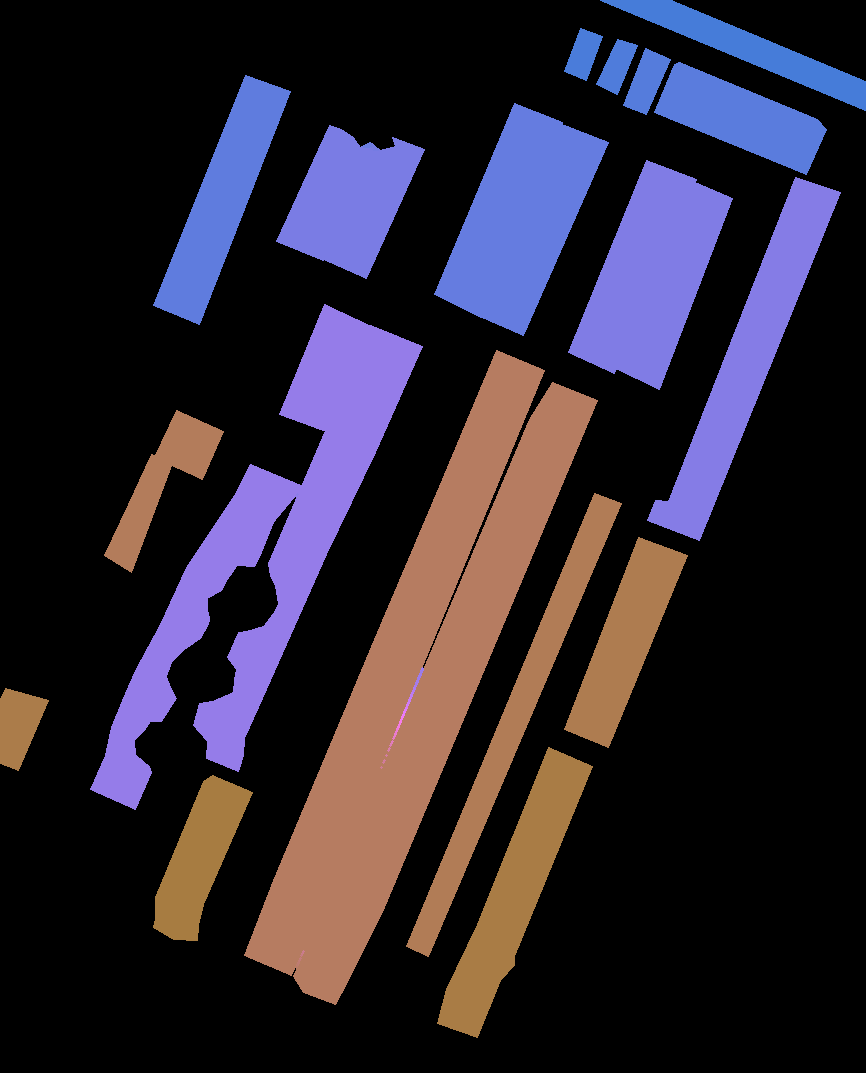parkingspot: (293, 382, 597, 1004), (244, 350, 544, 975), (193, 325, 422, 771), (406, 493, 621, 956), (90, 464, 303, 809), (647, 177, 840, 540), (437, 747, 592, 1037), (153, 75, 290, 324), (600, 0, 866, 110), (477, 123, 608, 335), (434, 103, 562, 317), (568, 160, 696, 373), (564, 537, 687, 747), (613, 180, 732, 389), (654, 62, 826, 174), (153, 775, 252, 940), (321, 137, 424, 278), (276, 125, 373, 260), (279, 304, 373, 433), (104, 454, 173, 572), (154, 410, 223, 479), (0, 688, 48, 770), (623, 48, 670, 114), (596, 39, 637, 94), (564, 28, 602, 80)
